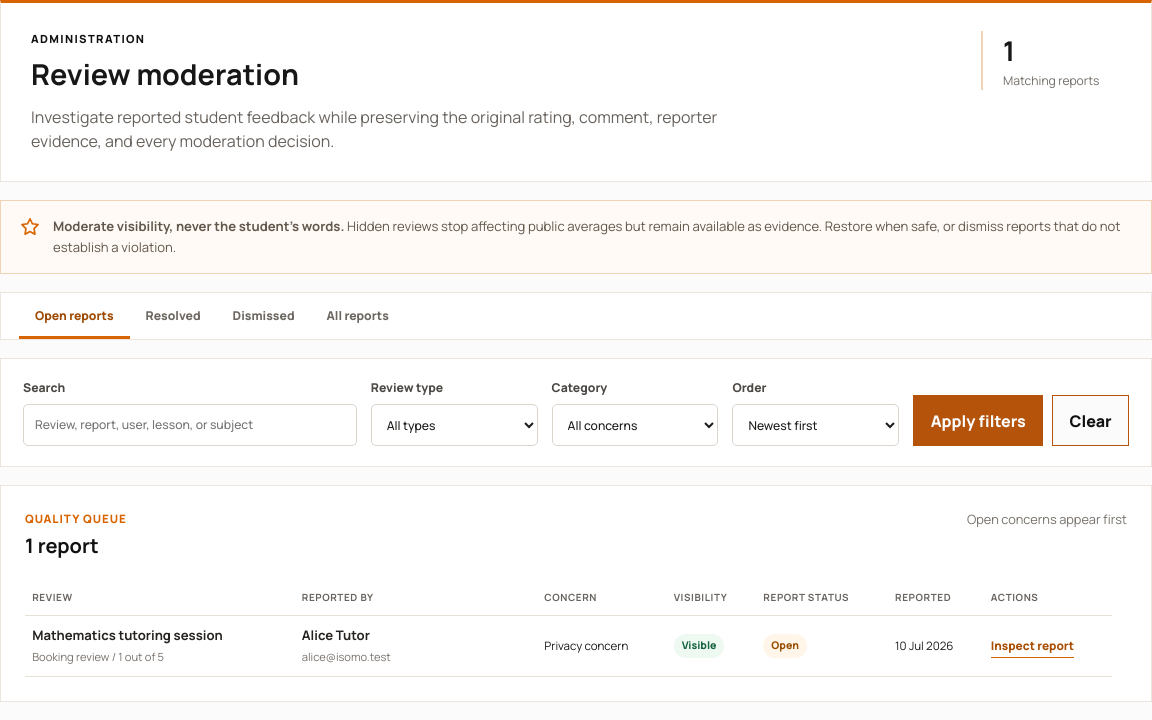
Test: AdminReviewModerationPage › loads the quality queue and preserves the original evidence in the dialog
Expected: the text "Mathematics tutoring session" is shown, [32,626,223,644]
Click the button "Inspect report" at (1032, 646), box [991,634,1074,658]
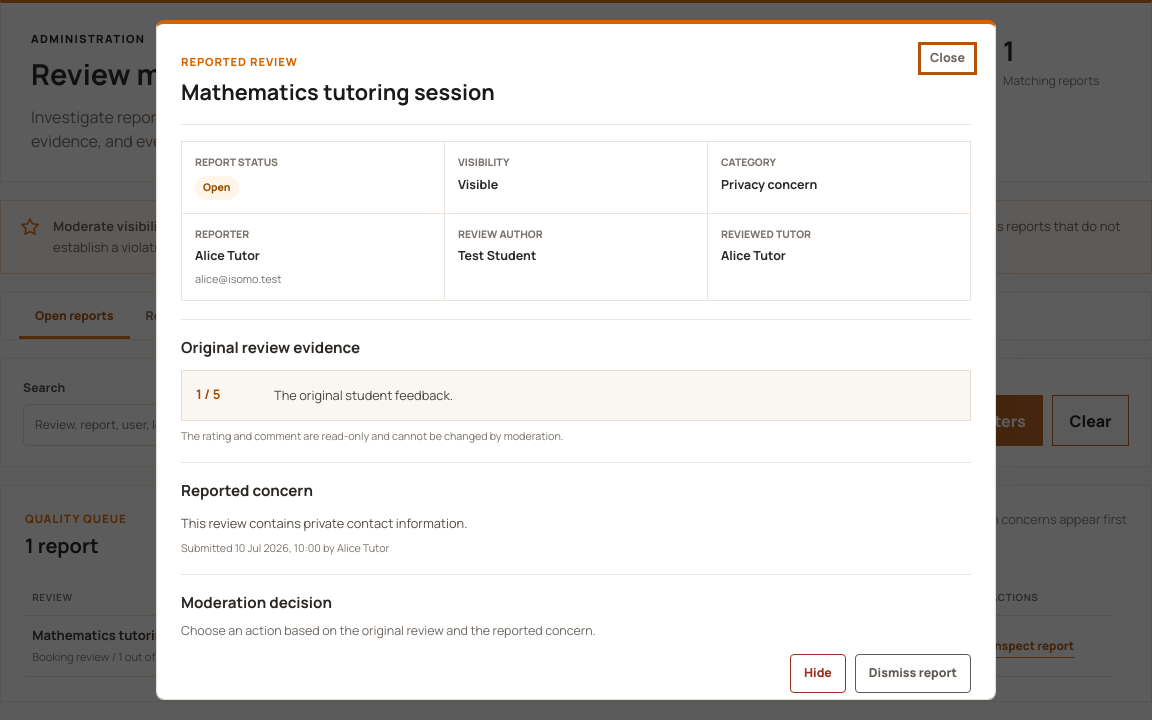
Expected: the dialog is shown
Expected: the text "The original student feedback." is shown, [274,386,453,404]
Expected: the text "rating and comment are read-only" is shown, [181,429,564,443]
